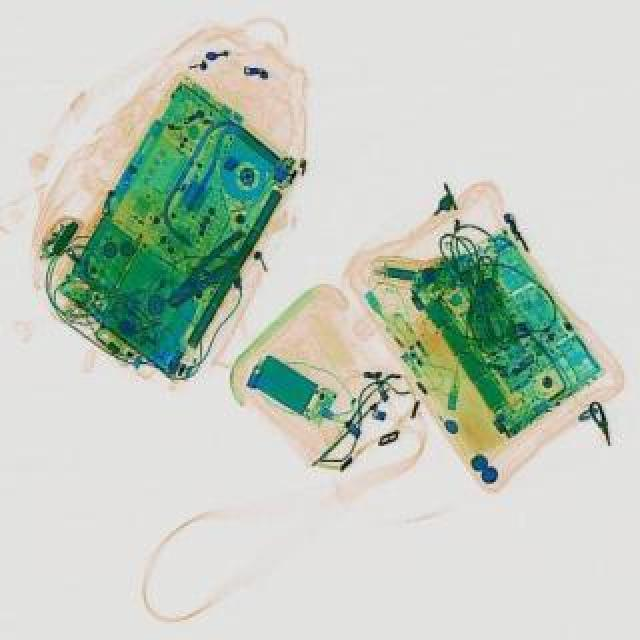wrench: (156, 226, 256, 310)
